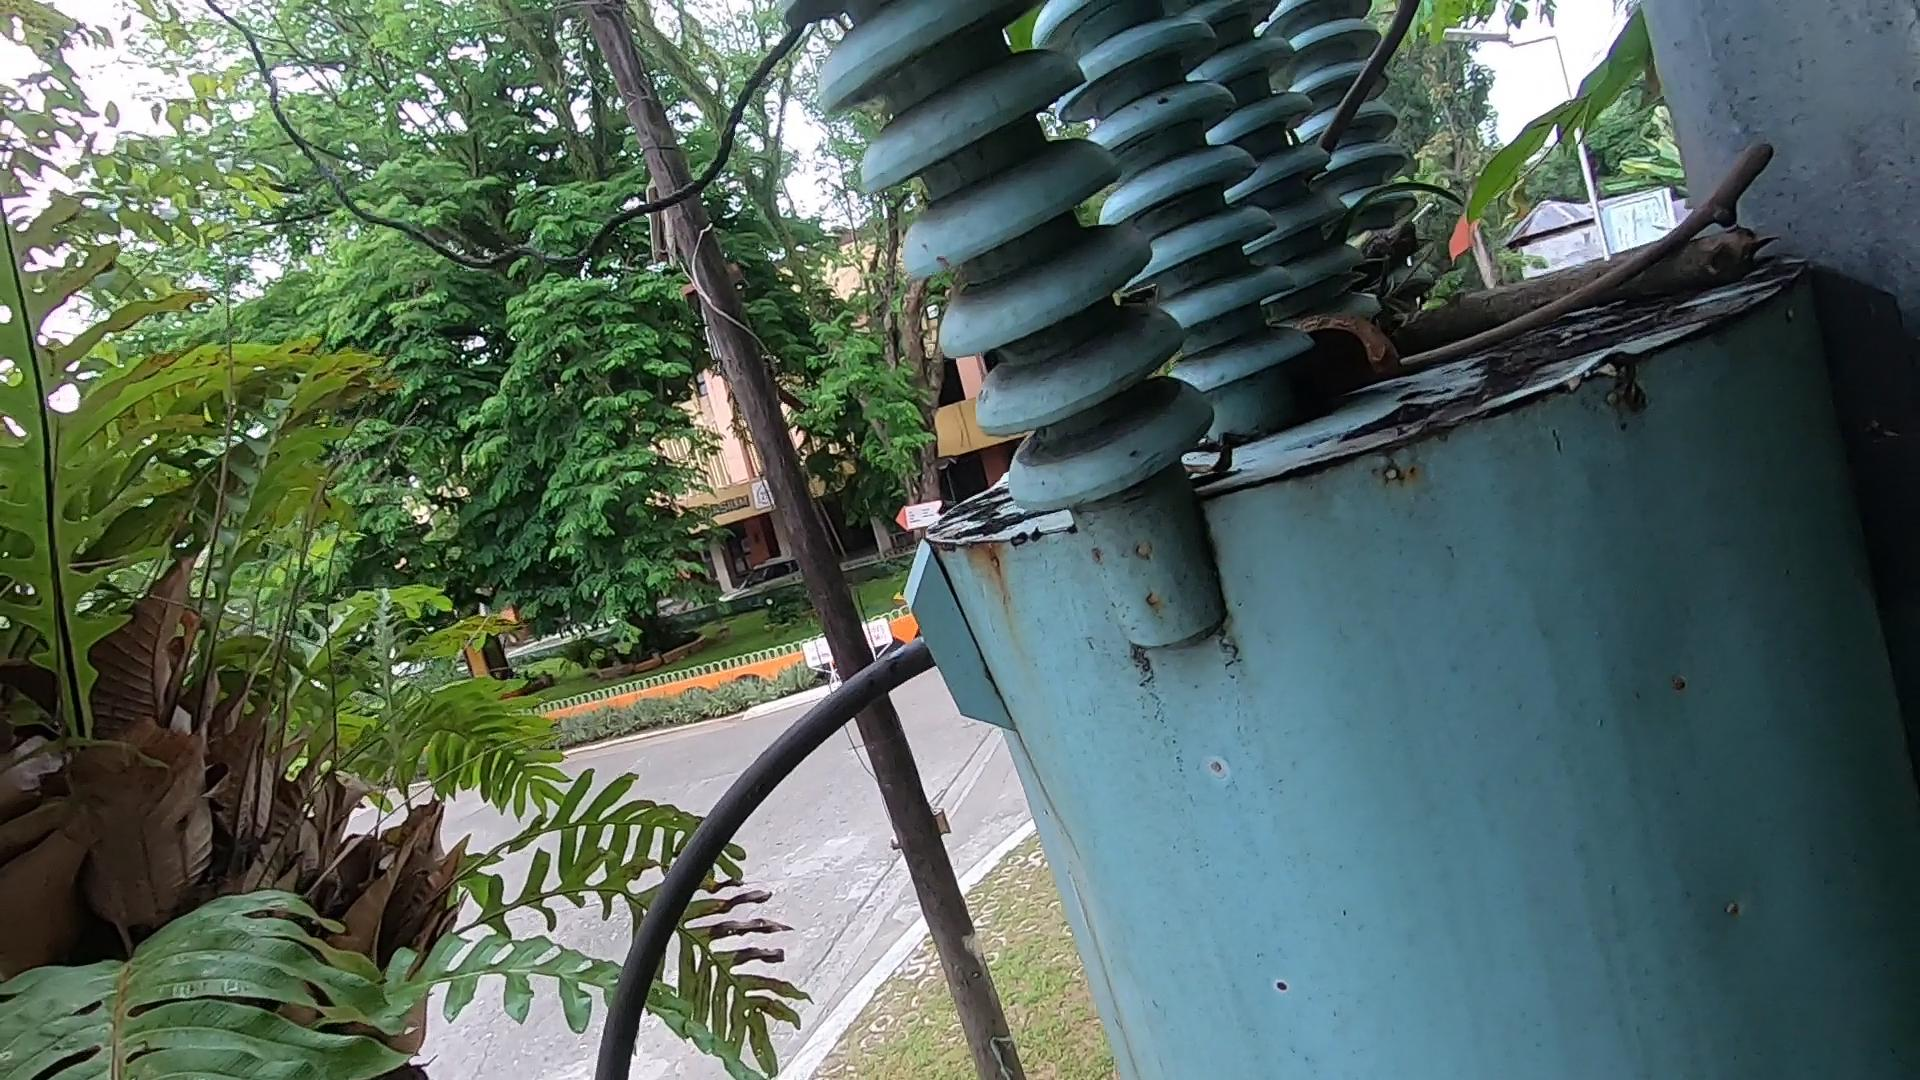branch with leaves: (1404, 218, 1768, 367)
mahogany fruit: (1229, 274, 1431, 392)
tree branch: (1385, 208, 1774, 380), (1237, 1, 1428, 196)
